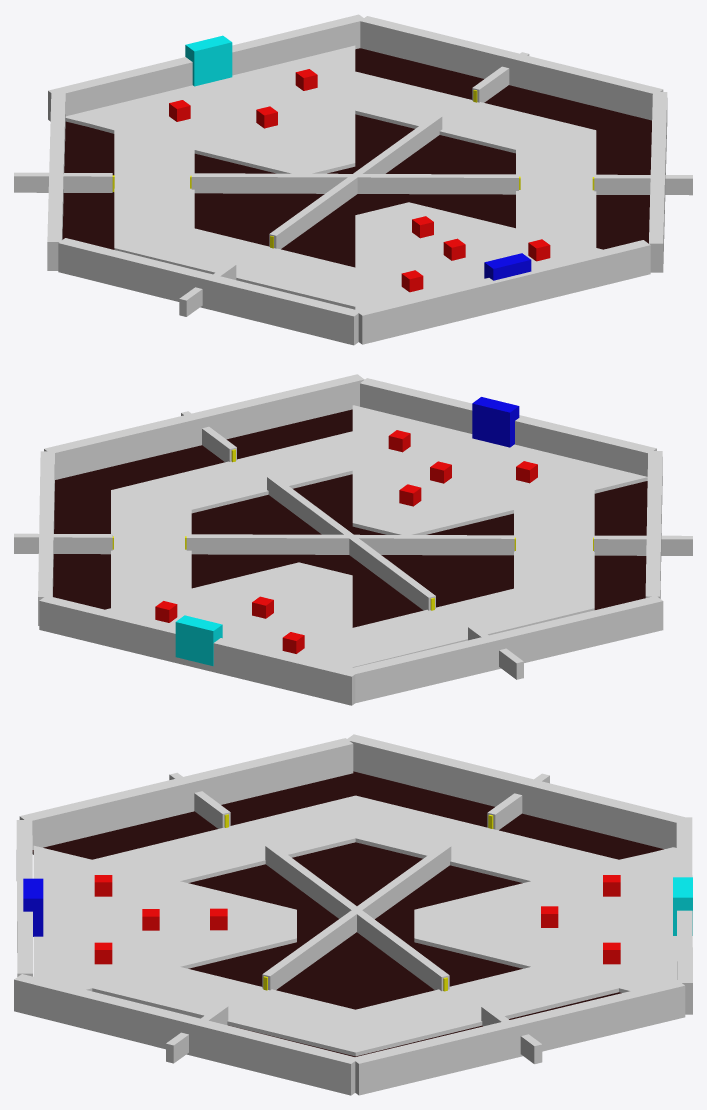
Rendered from Level2_b4.fbx.
3 renders of one model, top to bottom at view 1: azimuth 30°, elevation 25°; view 2: azimuth 150°, elevation 25°; view 3: azimuth 270°, elevation 25°, orthographic. The views are drawn at different scales.
Visible parts, largest first — view 1: Cylinder004, Box073, Box034, Box038, Box037, Box039, Box074, Box059, Box077, Box076, Box062, Box036 (+7 smaller); view 2: Cylinder004, Box073, Box035, Box039, Box036, Box038, Box062, Box077, Box074, Box075, Box059, Box037 (+7 smaller); view 3: Cylinder004, Box073, Box036, Box037, Box035, Box034, Box075, Box076, Box059, Box062, Box039, Box038 (+6 smaller).
Boxes of the visible parts, x1,y1,x2,y2 form: Cylinder004: (65, 45, 602, 309); Box073: (103, 83, 623, 267); Box034: (58, 238, 360, 345); Box038: (355, 240, 650, 344); Box037: (360, 16, 663, 120); Box039: (48, 14, 365, 121); Box074: (355, 48, 651, 148); Box059: (191, 173, 518, 194); Box077: (571, 120, 651, 249); Box076: (62, 121, 114, 248); Box062: (269, 115, 442, 249); Box036: (649, 92, 667, 272); Cylinder004: (105, 405, 647, 668); Box073: (79, 446, 600, 627); Box035: (343, 596, 663, 703); Box039: (39, 596, 358, 705); Box036: (44, 374, 364, 479); Box038: (360, 378, 656, 476); Box062: (186, 534, 514, 555); Box077: (55, 409, 352, 509); Box074: (53, 480, 131, 609); Box075: (594, 481, 647, 609); Box059: (267, 475, 435, 610); Box037: (38, 451, 54, 625); Cylinder004: (33, 795, 676, 1056); Box073: (188, 841, 549, 1026); Box036: (14, 974, 356, 1095); Box037: (351, 980, 685, 1095); Box035: (347, 734, 689, 849); Box034: (19, 738, 353, 849); Box075: (32, 771, 403, 859); Box076: (305, 773, 663, 859); Box059: (262, 844, 451, 990); Box062: (265, 844, 449, 991); Box039: (676, 817, 692, 1014); Box038: (16, 820, 32, 976).
Bounding box in the file's own units: 548 × 35.02 × 477.
